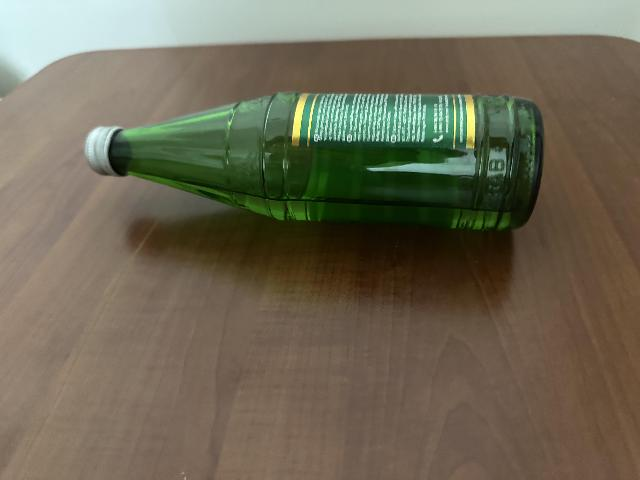Cam: (122, 92, 560, 222)
Metal: (76, 120, 120, 176)
